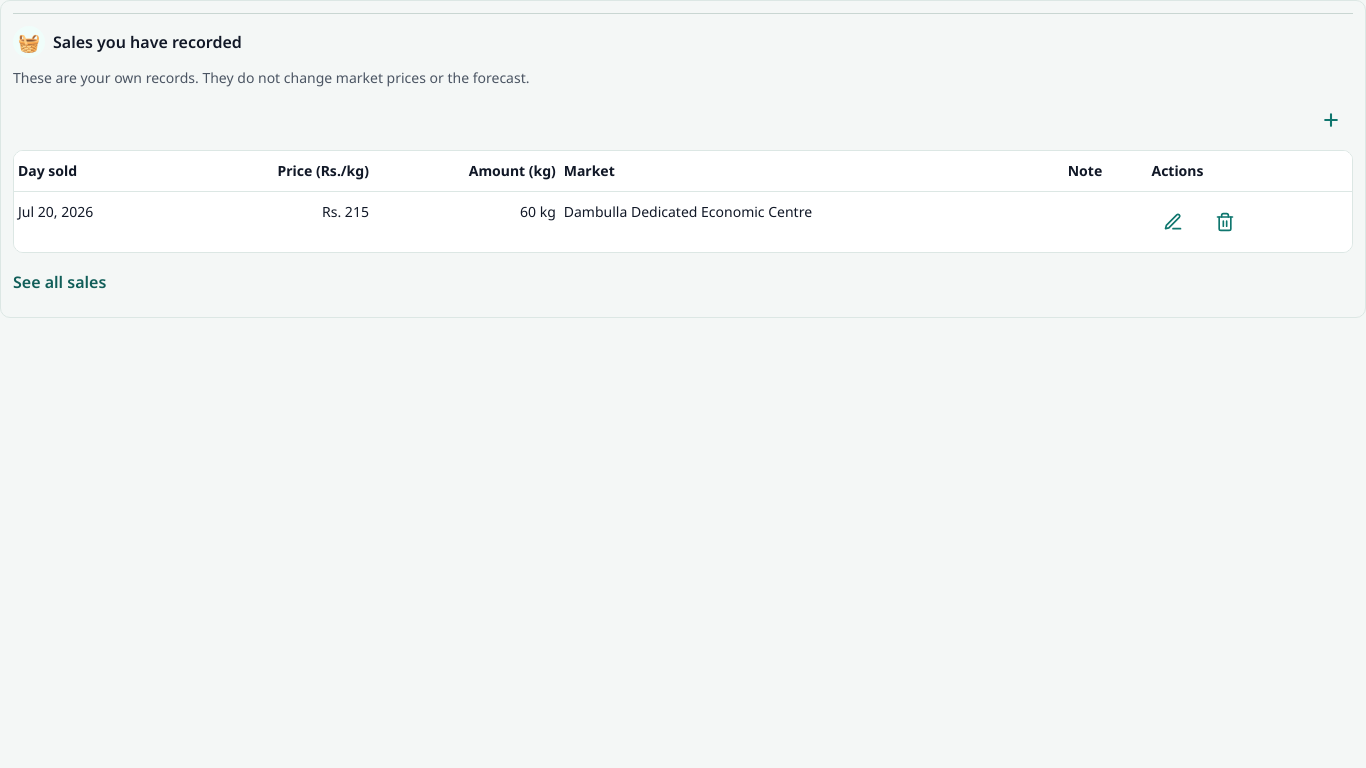
Test: the sales table — the shape a phone can read › keeps Save, Cancel and both answers to the remove-question as WORDS
Click the button named "Record a sale of Tomato".
click(1331, 120)  # box [1309, 98, 1353, 142]
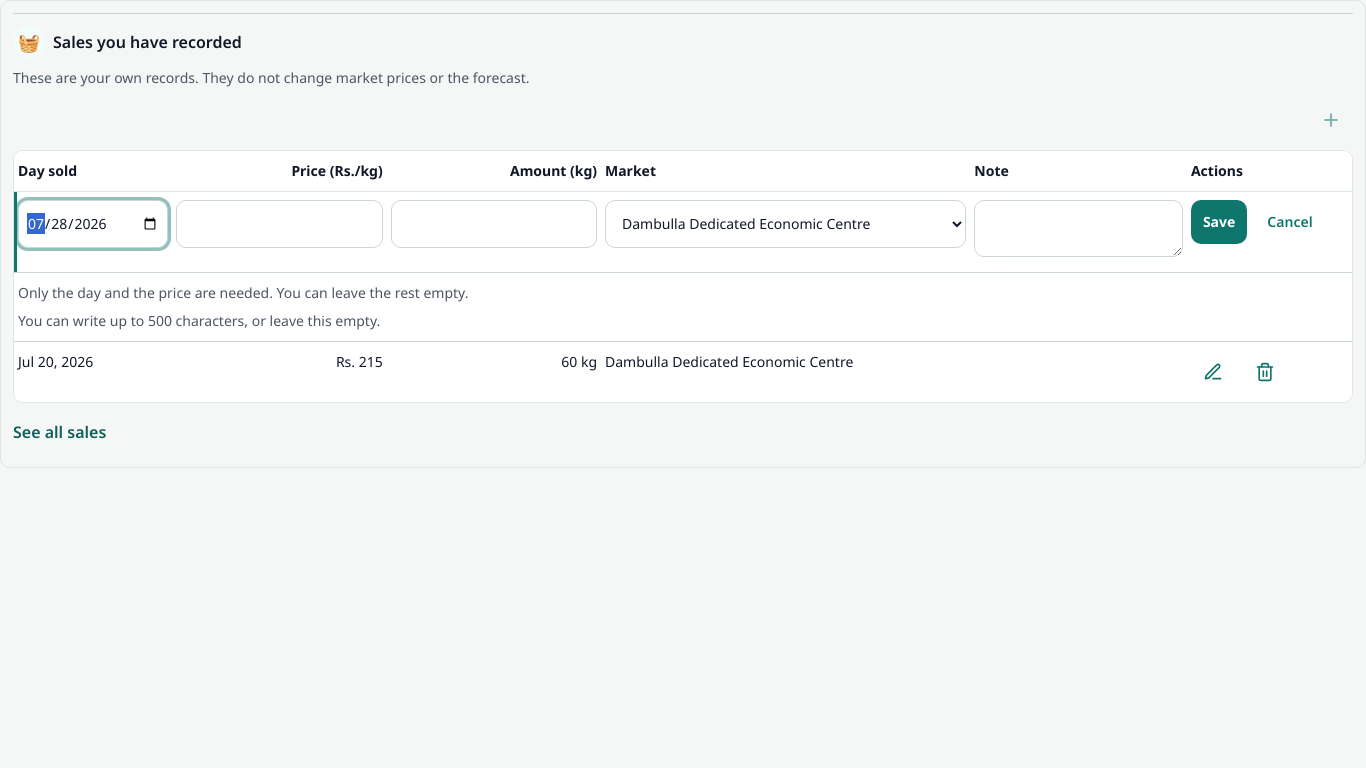
Check: the button with aria-label "Save this sale of Tomato" reads "Save", box [1191, 200, 1247, 244]
Check: the button "Cancel" is shown, box [1255, 200, 1325, 244]
Click the button named "Remove the sale of Tomato on Jul 20, 2026".
click(1265, 372)  # box [1243, 350, 1287, 394]
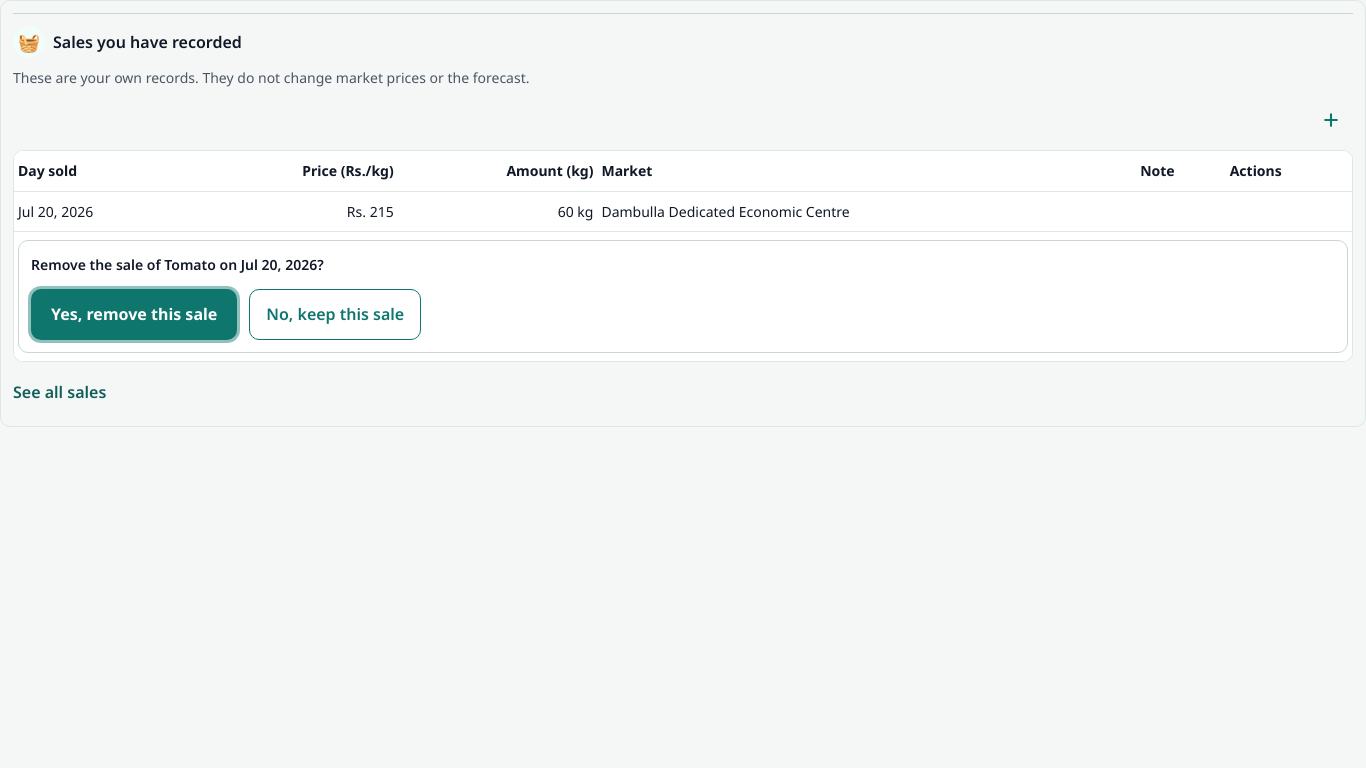
Check: the button "Yes, remove this sale" is shown, box [31, 289, 237, 340]
Check: the button "No, keep this sale" is shown, box [249, 289, 421, 340]
